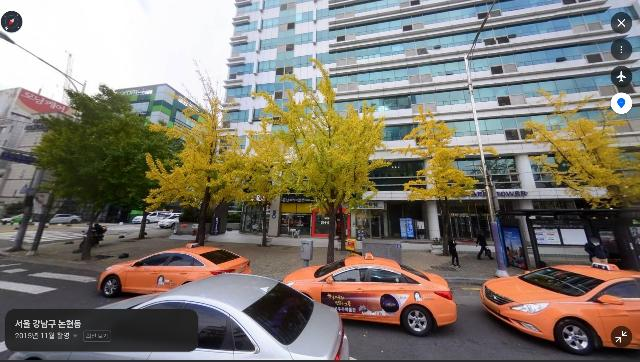ginkgo: (247, 57, 393, 268), (141, 57, 259, 247), (392, 105, 502, 257), (521, 84, 640, 215), (221, 106, 317, 247), (121, 119, 203, 240)
